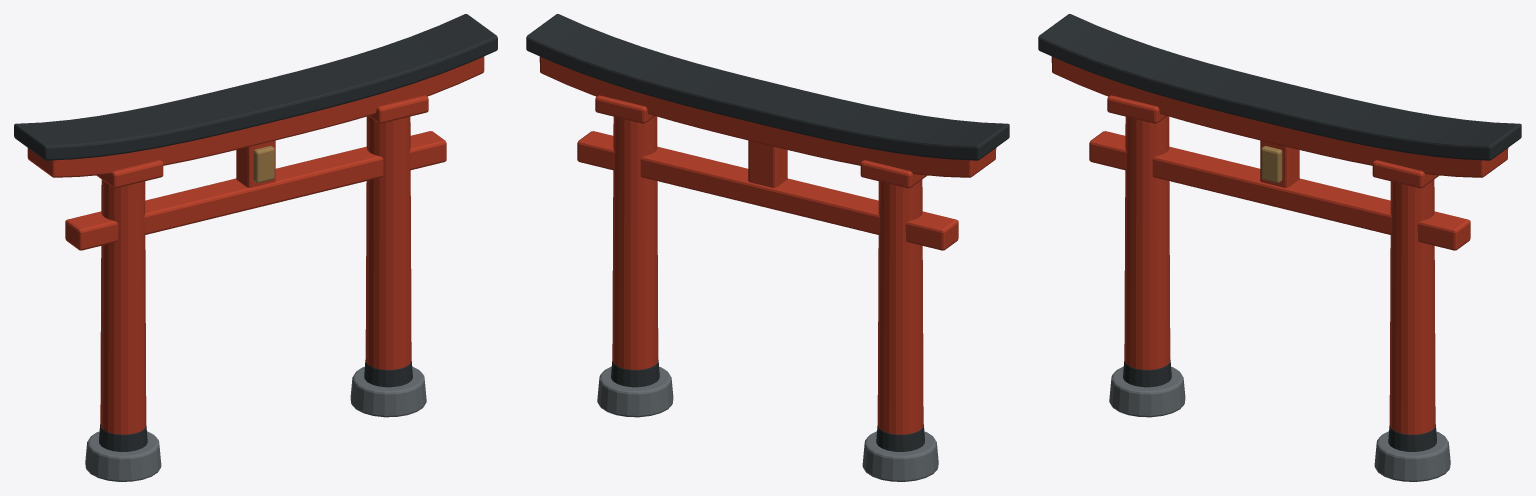
Rendered from NEW_RECOVERY_123_LOD1.glb.
3 renders of one model, left to right at view 1: azimuth 30°, elevation 25°; view 2: azimuth 150°, elevation 25°; view 3: azimuth 330°, elevation 25°, orthographic.
Parts seen in each view (by area): view 1: Torii gate continuous solid; view 2: Torii gate continuous solid; view 3: Torii gate continuous solid.
Boxes of the visible parts, <box> form: Torii gate continuous solid: <box>14,14,497,481</box>; Torii gate continuous solid: <box>526,14,1009,481</box>; Torii gate continuous solid: <box>1038,14,1521,481</box>.
Size of the model in its own units: 5.3 by 3.96 by 0.7758.
